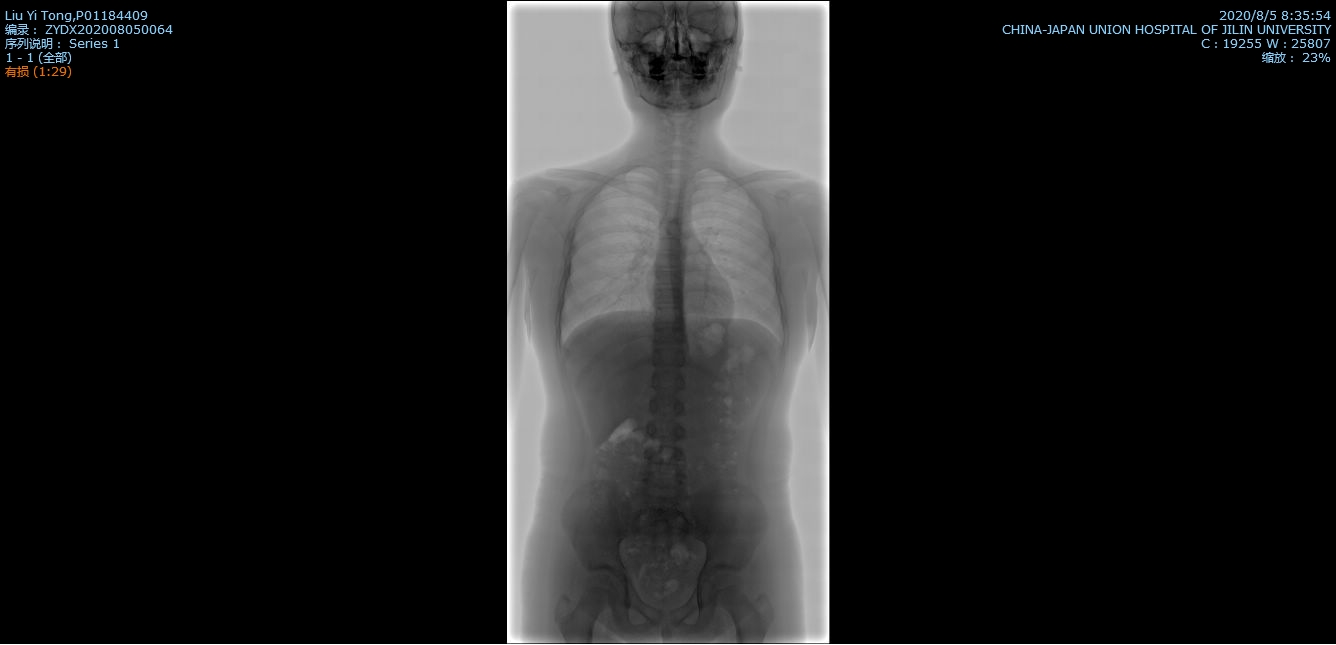Bone: (645, 445, 686, 465), (644, 472, 682, 490), (650, 394, 684, 413), (648, 421, 683, 439), (651, 370, 683, 389), (654, 347, 683, 365), (654, 327, 684, 342), (656, 307, 683, 323), (654, 287, 682, 302), (655, 252, 681, 267), (654, 270, 680, 283), (658, 220, 680, 234), (656, 237, 681, 249)
